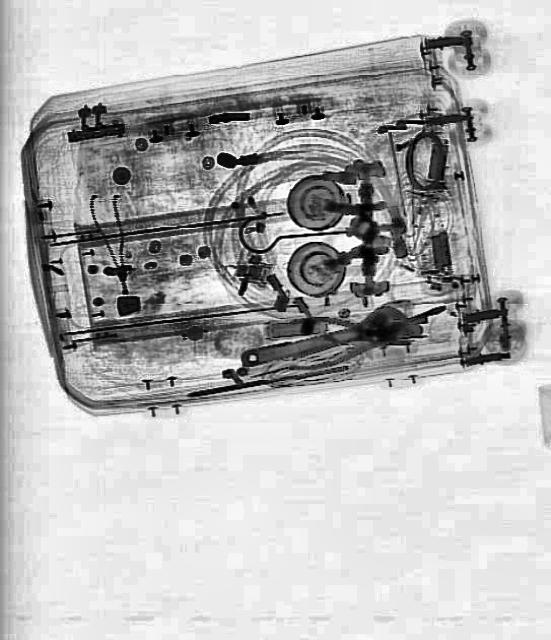Pliers: (280, 303, 406, 371)
Wrench: (236, 297, 410, 378)
